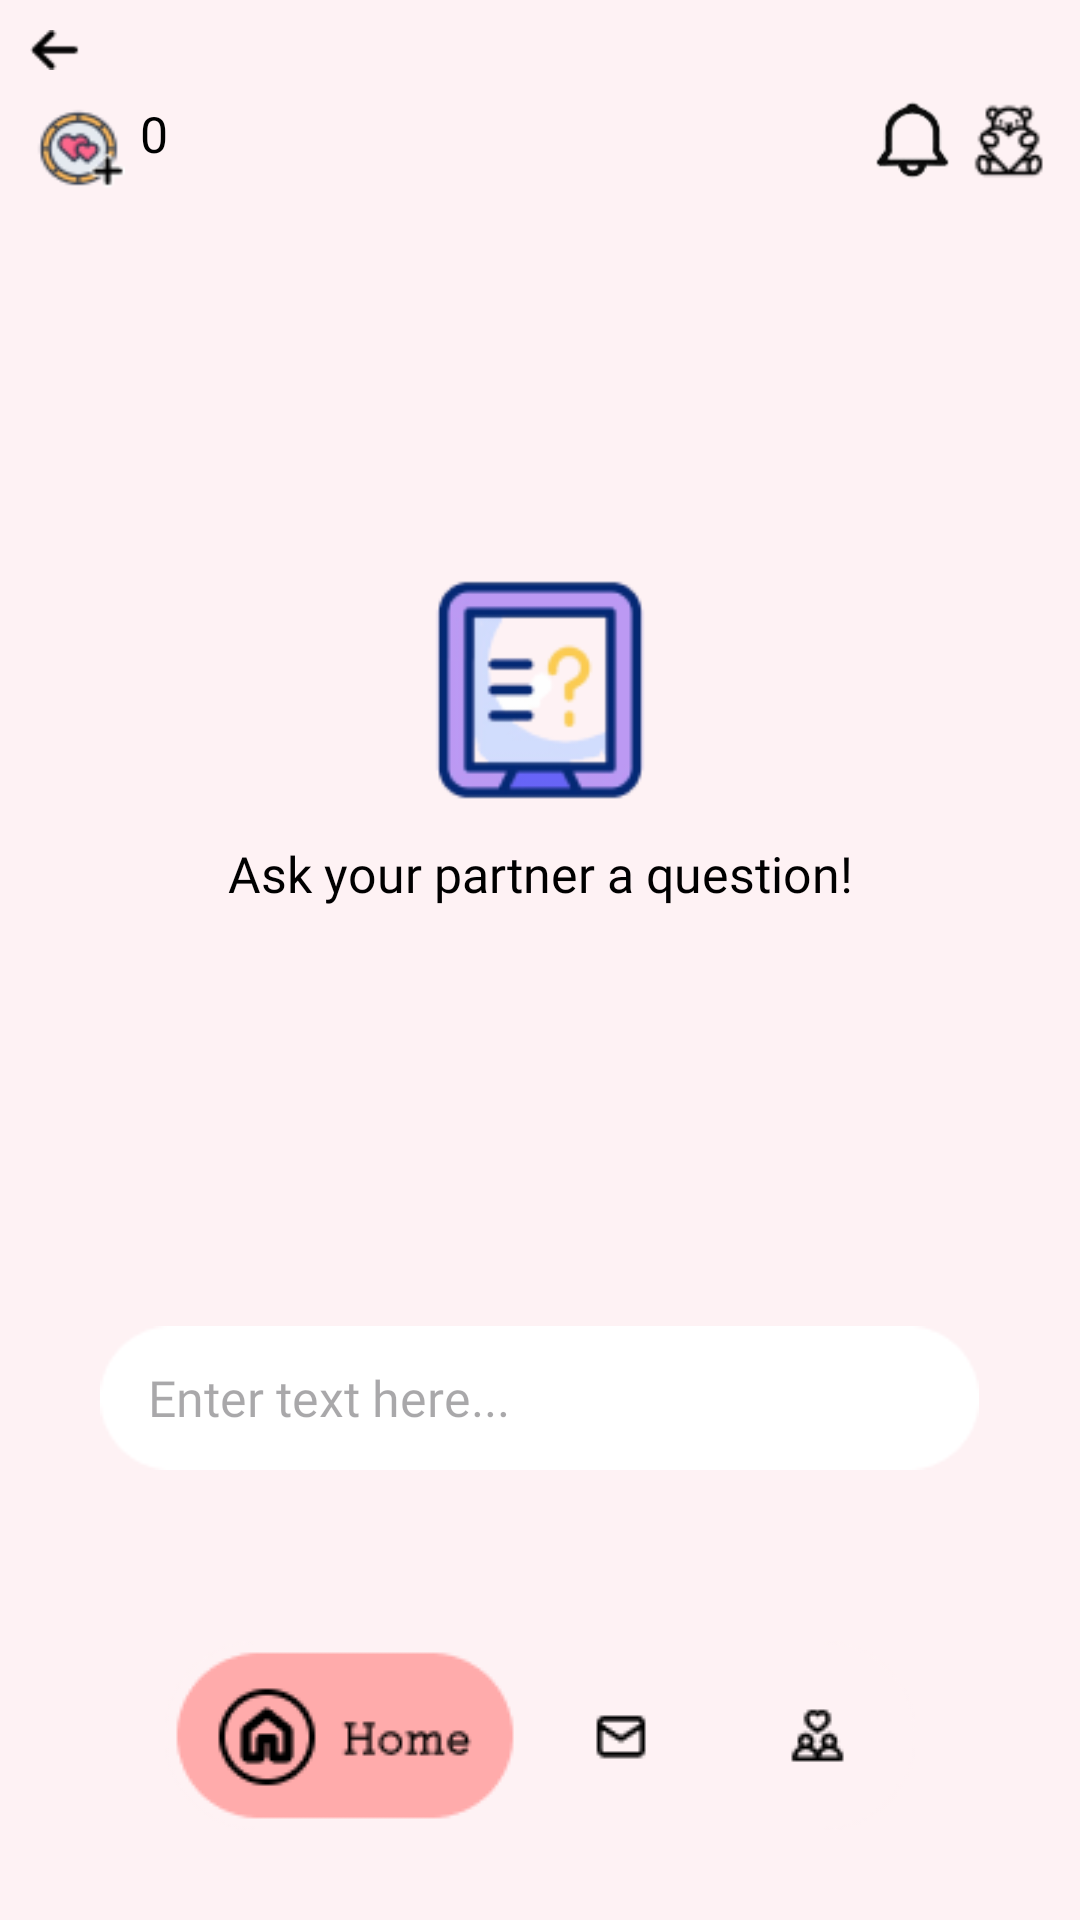

Icons on this 1080px x 1920px Android screen, each with the point to tap as (x=x, y=y):
back: (x=54, y=50)
gifts: (x=1008, y=141)
Notification: (x=912, y=140)
tokens: (x=81, y=148)
